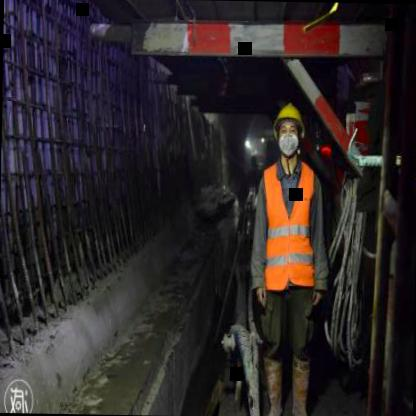helmet: (270, 100, 304, 163)
